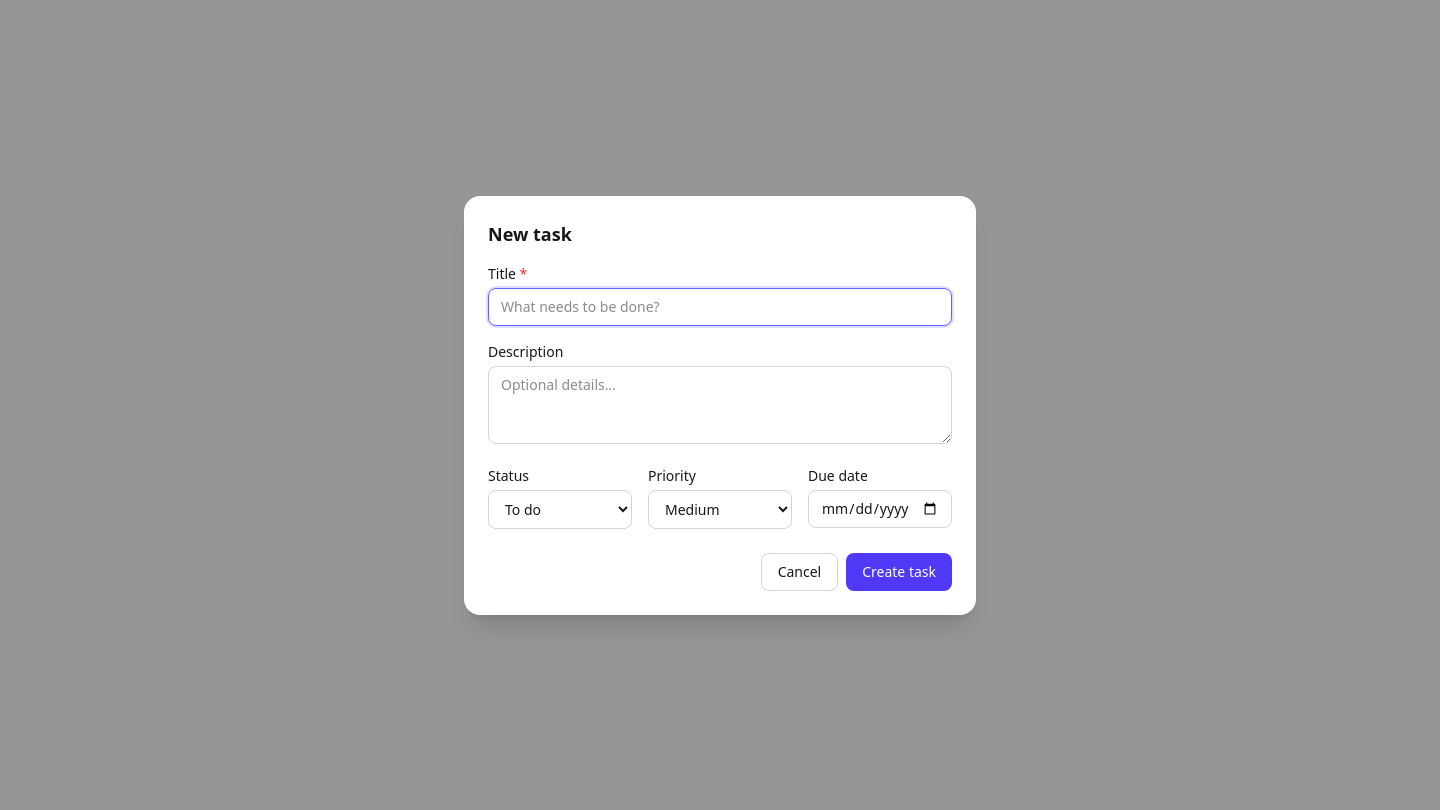
Test case: TaskFormModal › blocks submission and shows error when title is empty
The image size is (1440, 810).
Click the button "Create task": {"x": 899, "y": 572} [846, 552, 952, 590]
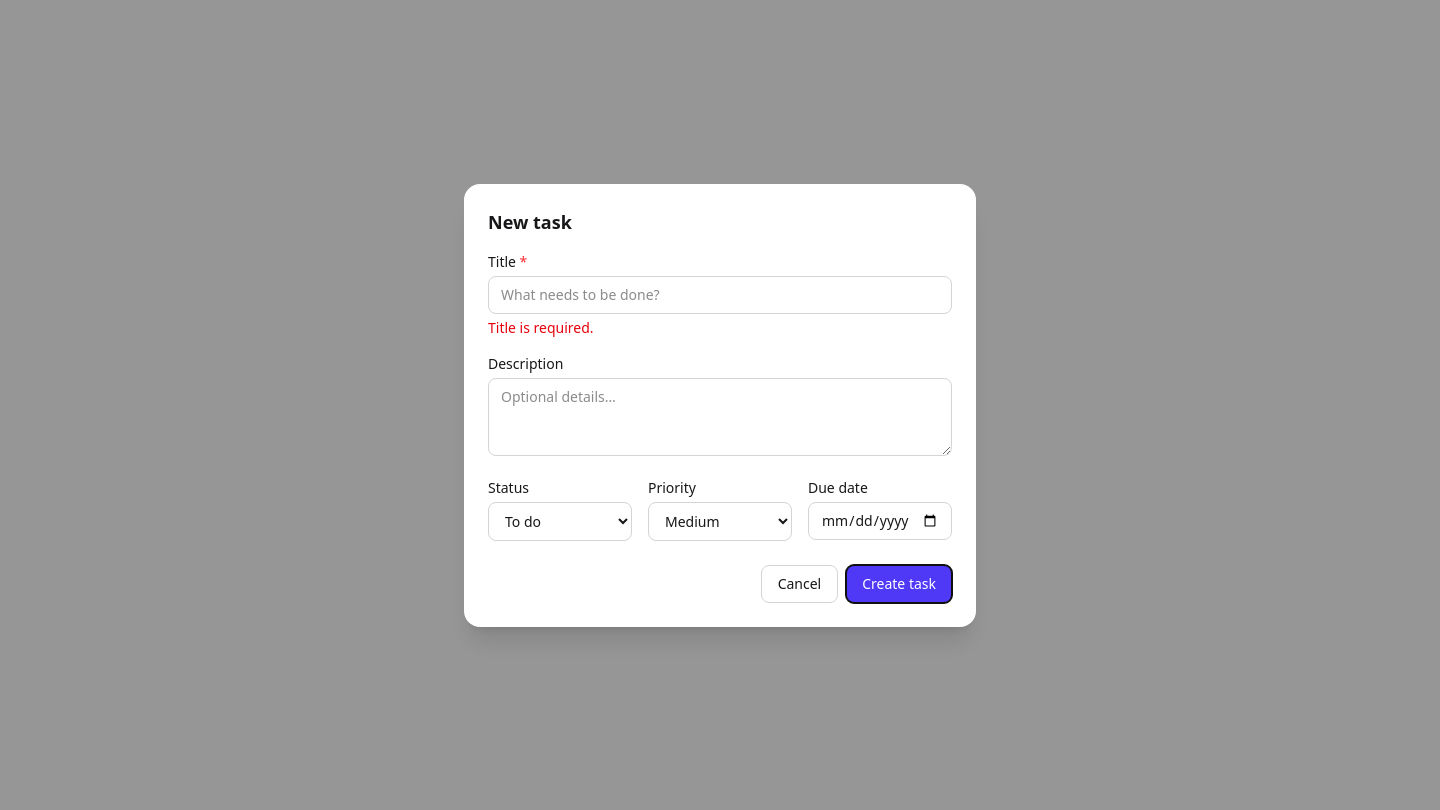
Expected: the text "Title is required." is shown, [488, 318, 594, 336]
